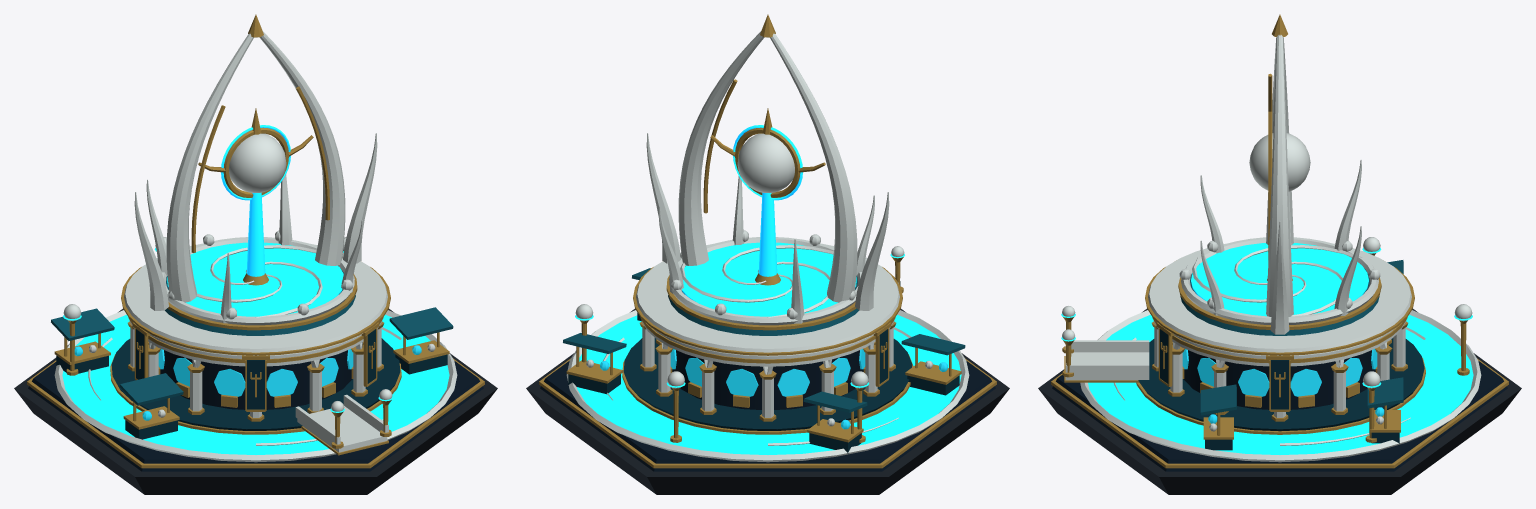
File: poseidon_structure_current_exchange.glb
The picture shows the model from 3 angles, left to right: view 1: azimuth 30°, elevation 25°; view 2: azimuth 150°, elevation 25°; view 3: azimuth 270°, elevation 25°; orthographic projection.
Visible parts, largest first — view 1: poseidon_structure_current_exchange; view 2: poseidon_structure_current_exchange; view 3: poseidon_structure_current_exchange.
Boxes of the visible parts, bbox=[...] form: poseidon_structure_current_exchange: bbox=[14, 14, 497, 494]; poseidon_structure_current_exchange: bbox=[526, 14, 1009, 494]; poseidon_structure_current_exchange: bbox=[1038, 14, 1521, 494].
Bounding box in the file's own units: 1.51 × 1.59 × 1.74.
Materials: 1 (1 with a texture image).
